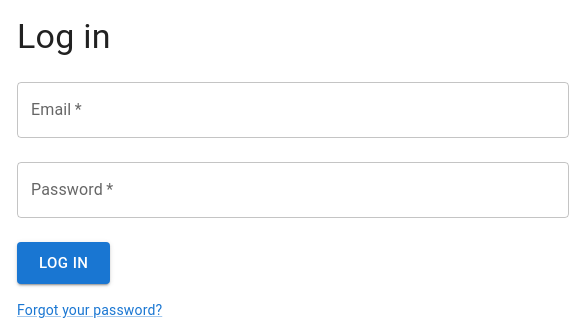
Scenario: LoginPage › shows a resend panel when the password is correct but the account is unverified
In the field labelled "Email *": point(293, 110) 17,82 -> 569,138, type "pending@example.com"
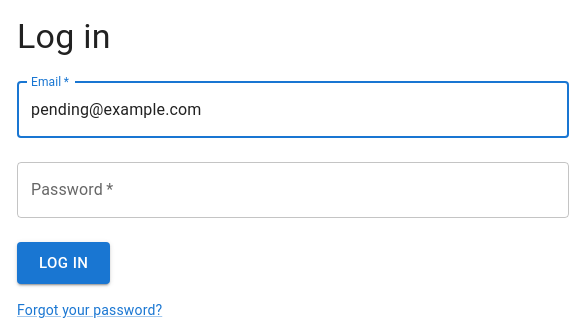
In the password field labelled "Password *": point(293, 190) 17,162 -> 569,218, type "a-good-long-password"
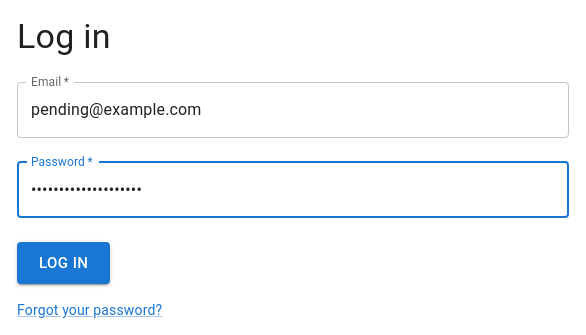
Click the button "Log in": point(64, 263) 17,242 -> 110,284
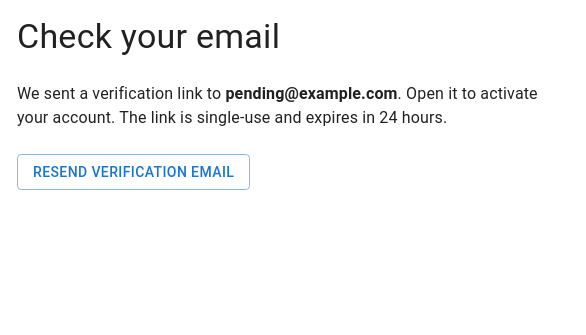
Check: the heading "Check your email" is shown, box 17,16 -> 280,58
Check: the text "pending@example.com" is shown, box 225,84 -> 398,103
